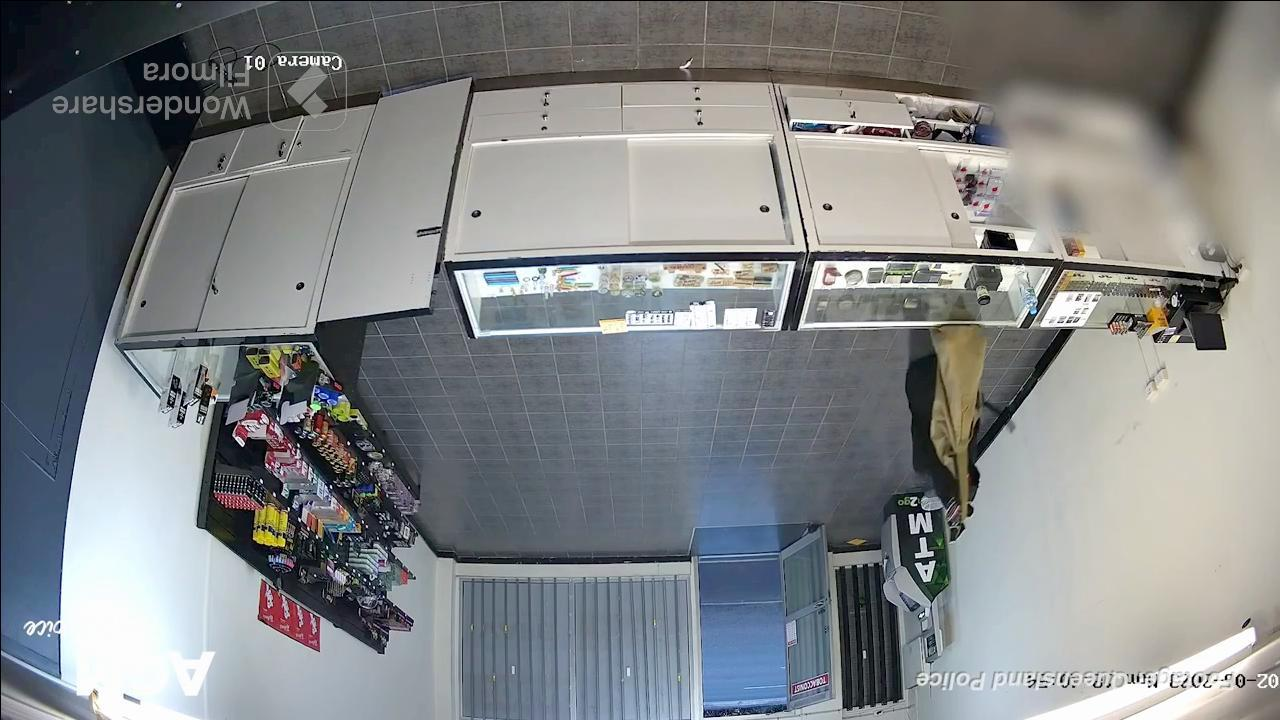melee: (970, 388, 1020, 438)
